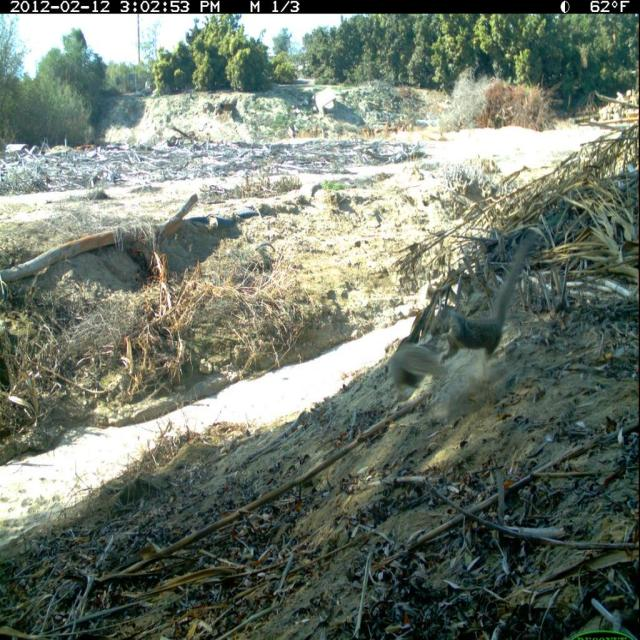squirrel: (429, 224, 549, 380), (381, 334, 446, 398)
